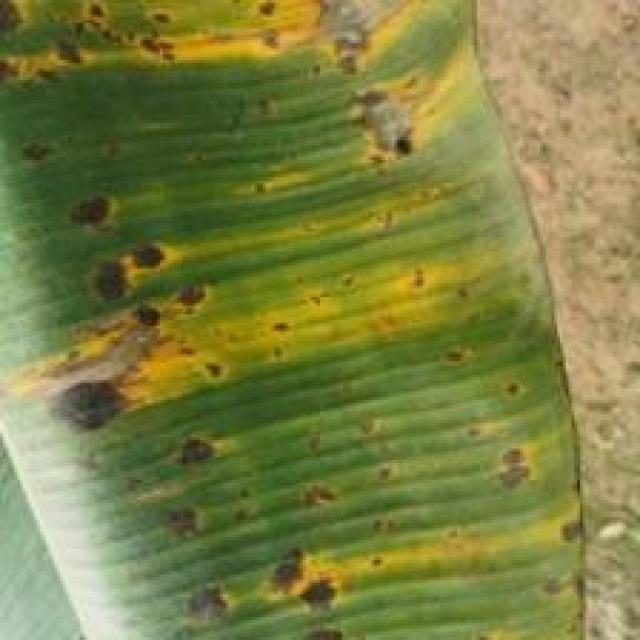Downey_mildrew: (3, 0, 597, 640)
